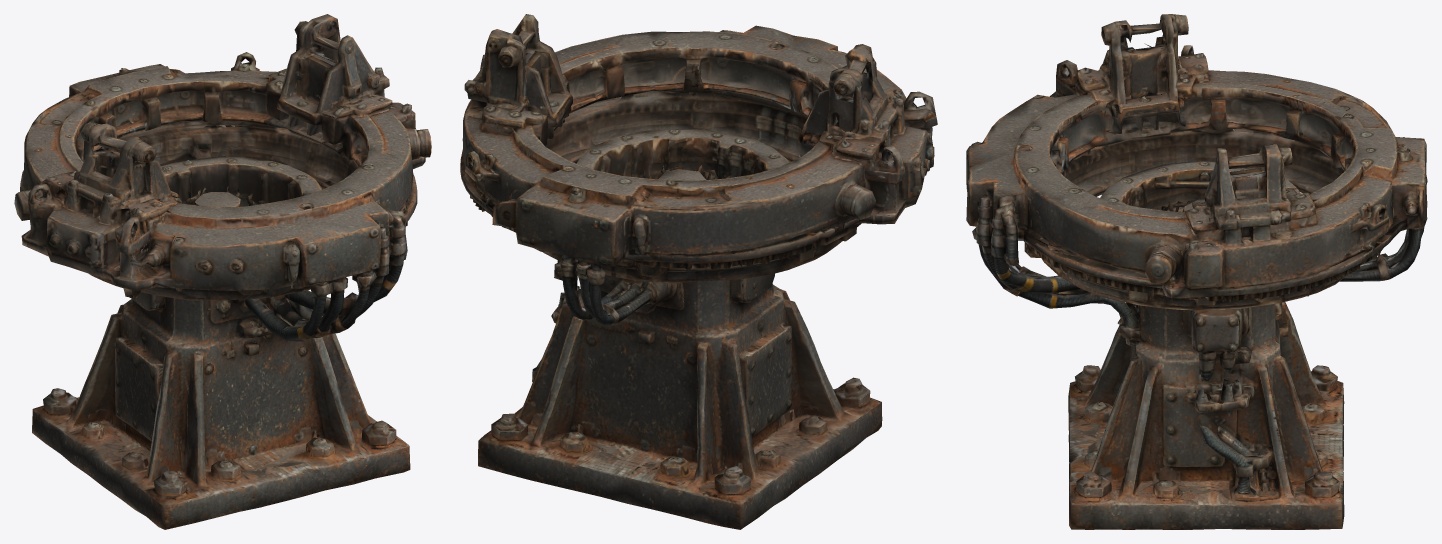
The model's file is BK_TurretBase.fbx.
The picture shows the model from 3 angles, left to right: view 1: azimuth 30°, elevation 25°; view 2: azimuth 150°, elevation 25°; view 3: azimuth 270°, elevation 25°; orthographic projection. The views are drawn at different scales.
Visible parts, largest first — view 1: texture_mapping; view 2: texture_mapping; view 3: texture_mapping.
Part boxes in pixels (left/top/right/bottom): texture_mapping: left=14, top=14, right=431, bottom=529; texture_mapping: left=460, top=14, right=937, bottom=529; texture_mapping: left=966, top=14, right=1427, bottom=529.
Bounding box in the file's own units: 0.9992 × 0.9999 × 0.9285.
Materials: 1 (1 with a texture image).
